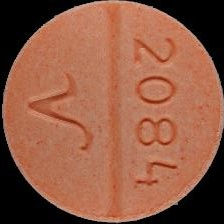50268-064: (0, 0, 224, 224)
